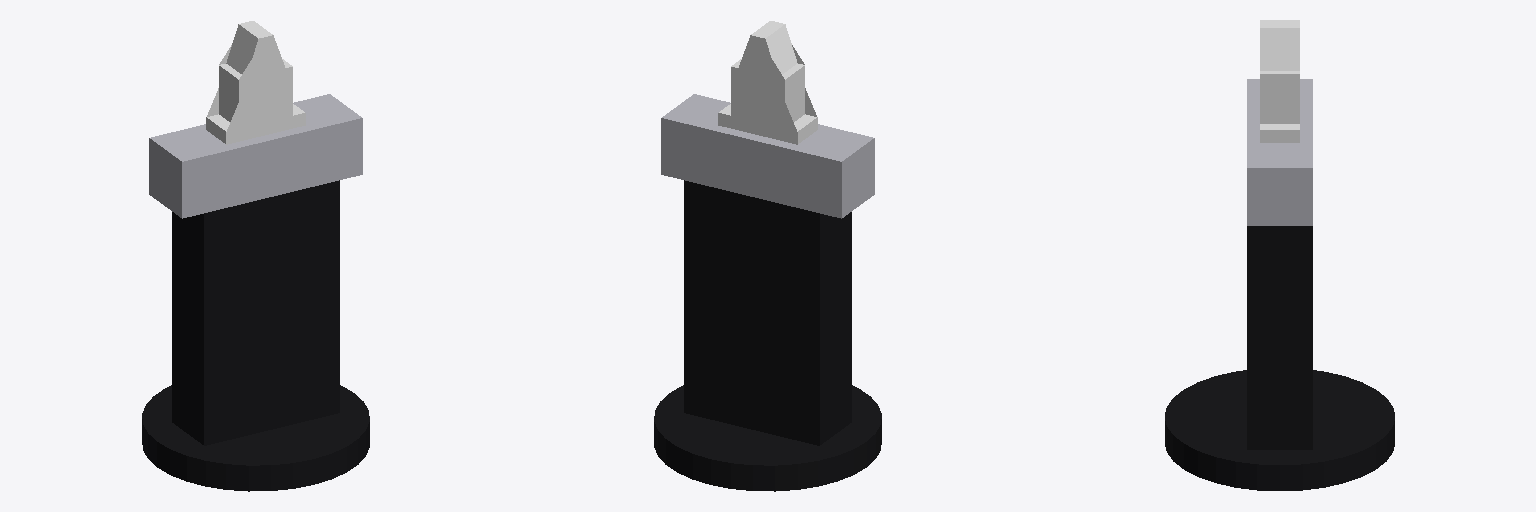
robot.urdf — pgea_100_40_o:
<?xml version="1.0"?>
<robot name="pgea_100_40_o">
  <link name="flange"/>

  <!-- ===== DH Robotics PGEA-100-40-O (measured 2026-11-21; see make_pgea_urdf.py for assumed values) ===== -->
  <material name="pgea_black"><color rgba="0.12 0.12 0.13 1"/></material>
  <material name="pgea_white"><color rgba="0.92 0.92 0.92 1"/></material>
  <material name="pgea_alu"><color rgba="0.75 0.75 0.78 1"/></material>
  <joint name="pgea_mount" type="fixed">
    <origin xyz="0 0 0" rpy="0 0 0"/><parent link="flange"/><child link="pgea_base"/>
  </joint>
  <link name="pgea_base">
    <inertial><origin xyz="0 0 0.065"/><mass value="0.55"/>
      <inertia ixx="0.000755517" ixy="0" ixz="0" iyy="0.000820829" iyz="0" izz="0.000211979"/></inertial>
    <visual name="adapter"><origin xyz="0 0 0.0050"/><geometry><cylinder radius="0.0400" length="0.0100"/></geometry><material name="pgea_black"/></visual>
    <collision name="adapter"><origin xyz="0 0 0.0050"/><geometry><cylinder radius="0.0400" length="0.0100"/></geometry></collision>
    <visual name="body"><origin xyz="0 0 0.0550"/><geometry><box size="0.0550 0.0230 0.0900"/></geometry><material name="pgea_black"/></visual>
    <collision name="body"><origin xyz="0 0 0.0550"/><geometry><box size="0.0550 0.0230 0.0900"/></geometry></collision>
    <visual name="housing"><origin xyz="0 0 0.1110"/><geometry><box size="0.0730 0.0230 0.0220"/></geometry><material name="pgea_alu"/></visual>
    <collision name="housing"><origin xyz="0 0 0.1110"/><geometry><box size="0.0730 0.0230 0.0220"/></geometry></collision>
  </link>
  <link name="finger_left">
    <inertial><origin xyz="0.0080 0 0.019"/><mass value="0.03"/>
      <inertia ixx="4.61e-06" ixy="0" ixz="0" iyy="4.25e-06" iyz="0" izz="1.64e-06"/></inertial>
    <visual><geometry><mesh filename="../meshes/finger_left.stl"/></geometry><material name="pgea_white"/></visual>
    <collision name="jaw"><origin xyz="0.0080 0 0.0025"/><geometry><box size="0.0160 0.0060 0.0050"/></geometry></collision>
    <collision name="upper"><origin xyz="0.0055 0 0.0145"/><geometry><box size="0.0110 0.0140 0.0190"/></geometry></collision>
    <collision name="tip"><geometry><mesh filename="../meshes/finger_left_tip.stl"/></geometry></collision>
  </link>
  <joint name="finger_left_joint" type="prismatic">
    <origin xyz="0 0 0.1220" rpy="0 0 0"/><parent link="pgea_base"/><child link="finger_left"/>
    <axis xyz="1 0 0"/><limit lower="0" upper="0.0220" effort="100" velocity="0.05"/>
  </joint>
  <link name="finger_right">
    <inertial><origin xyz="-0.0080 0 0.019"/><mass value="0.03"/>
      <inertia ixx="4.61e-06" ixy="0" ixz="0" iyy="4.25e-06" iyz="0" izz="1.64e-06"/></inertial>
    <visual><geometry><mesh filename="../meshes/finger_right.stl"/></geometry><material name="pgea_white"/></visual>
    <collision name="jaw"><origin xyz="-0.0080 0 0.0025"/><geometry><box size="0.0160 0.0060 0.0050"/></geometry></collision>
    <collision name="upper"><origin xyz="-0.0055 0 0.0145"/><geometry><box size="0.0110 0.0140 0.0190"/></geometry></collision>
    <collision name="tip"><geometry><mesh filename="../meshes/finger_right_tip.stl"/></geometry></collision>
  </link>
  <joint name="finger_right_joint" type="prismatic">
    <origin xyz="0 0 0.1220" rpy="0 0 0"/><parent link="pgea_base"/><child link="finger_right"/>
    <axis xyz="-1 0 0"/><limit lower="0" upper="0.0220" effort="100" velocity="0.05"/>
  </joint>
  <!-- TCP = fingertip centre, FR5 tool 1 (0, 0, 160) -->
  <link name="tcp"/>
  <joint name="tcp_joint" type="fixed">
    <origin xyz="0 0 0.1600" rpy="0 0 0"/><parent link="pgea_base"/><child link="tcp"/>
  </joint>
  <!-- D435 + bracket: add a fixed camera link here once the mount is measured (design 5.2) -->
</robot>

--- Render facts (derived) ---
Views: 3 orthographic renders of the robot side by side, from view 1: azimuth 30°, elevation 25°; view 2: azimuth 150°, elevation 25°; view 3: azimuth 270°, elevation 25°.
Robot: pgea_100_40_o — 5 links, 4 joints (2 prismatic, 2 fixed); root link flange; default pose: every joint at zero.
Visible links, largest first — view 1: pgea_base, finger_right, finger_left; view 2: pgea_base, finger_right, finger_left; view 3: pgea_base, finger_left.
Boxes of the visible links, x1=… form: pgea_base: x1=142, y1=94, x2=369, y2=491; finger_right: x1=206, y1=22, x2=265, y2=144; finger_left: x1=246, y1=21, x2=305, y2=134; pgea_base: x1=654, y1=94, x2=881, y2=491; finger_right: x1=758, y1=22, x2=817, y2=144; finger_left: x1=718, y1=21, x2=777, y2=134; pgea_base: x1=1165, y1=79, x2=1394, y2=490; finger_left: x1=1260, y1=24, x2=1299, y2=142.
Size in the robot's own frame: 0.08 by 0.08 by 0.16 metres.
2 mesh visuals loaded from 2 distinct referenced files (2 binary STL).
